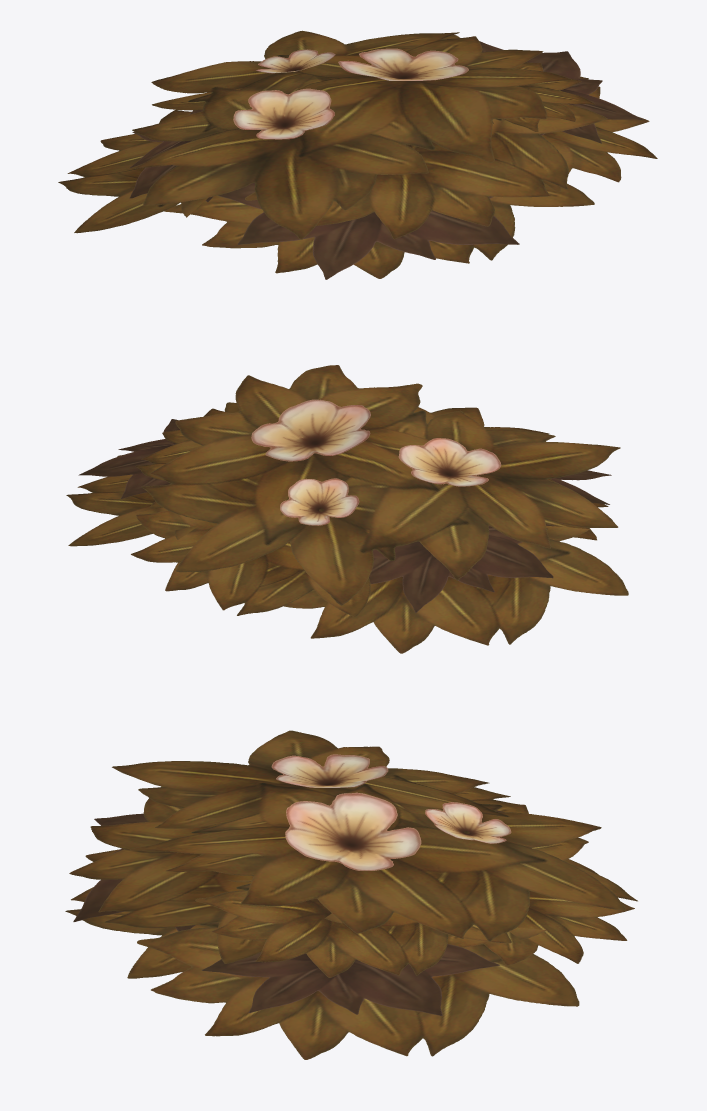
The model's file is bush5.fbx.
3 views of the same model, one above another, from view 1: azimuth 30°, elevation 25°; view 2: azimuth 150°, elevation 25°; view 3: azimuth 270°, elevation 25° (orthographic). The views are drawn at different scales.
Visible parts, largest first — view 1: polySurface561; view 2: polySurface561; view 3: polySurface561.
Boxes of the visible parts, x1,y1,x2,y2 form: polySurface561: [58, 30, 657, 279]; polySurface561: [66, 365, 628, 653]; polySurface561: [65, 730, 637, 1059].
Size of the model in its own units: 1.4 by 0.285 by 1.19.
